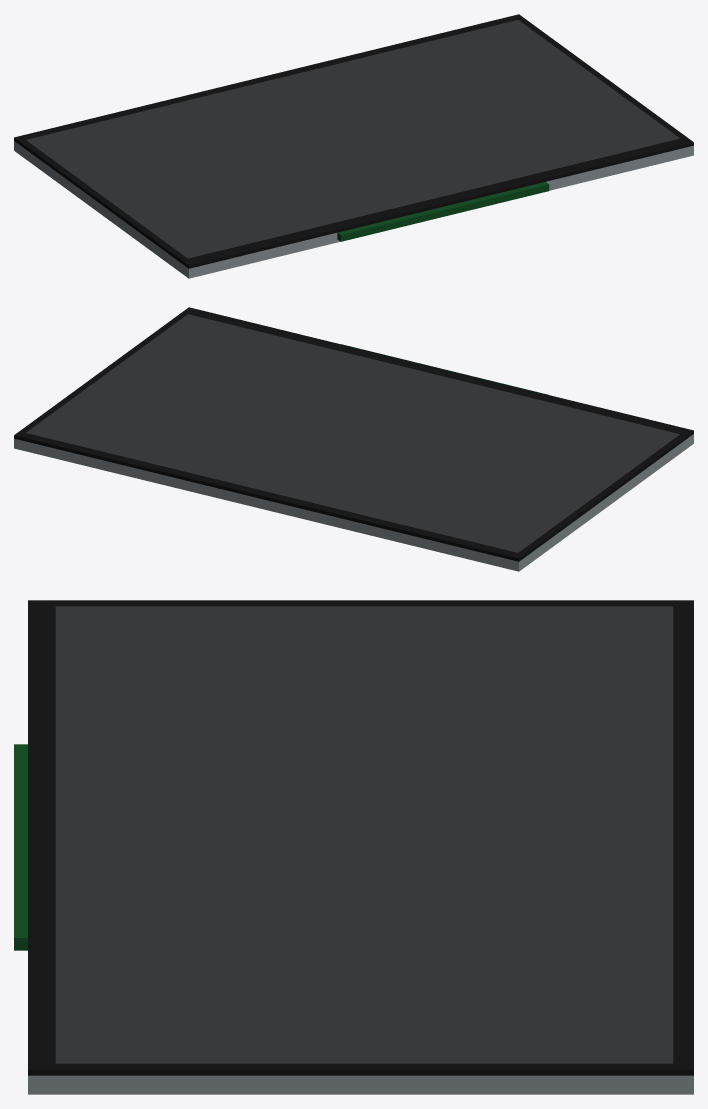
File: large_lcd_screen.glb
3 renders of one model, top to bottom at view 1: azimuth 30°, elevation 25°; view 2: azimuth 150°, elevation 25°; view 3: azimuth 270°, elevation 25°, orthographic. The views are drawn at different scales.
Visible parts, largest first — view 1: large_lcd_screen:compound; view 2: large_lcd_screen:compound; view 3: large_lcd_screen:compound.
Boxes of the visible parts, x1,y1,x2,y2 form: large_lcd_screen:compound: [14, 14, 693, 278]; large_lcd_screen:compound: [14, 307, 693, 571]; large_lcd_screen:compound: [14, 600, 693, 1094].
Size of the model in its own units: 0.96 by 0.024 by 0.588.
